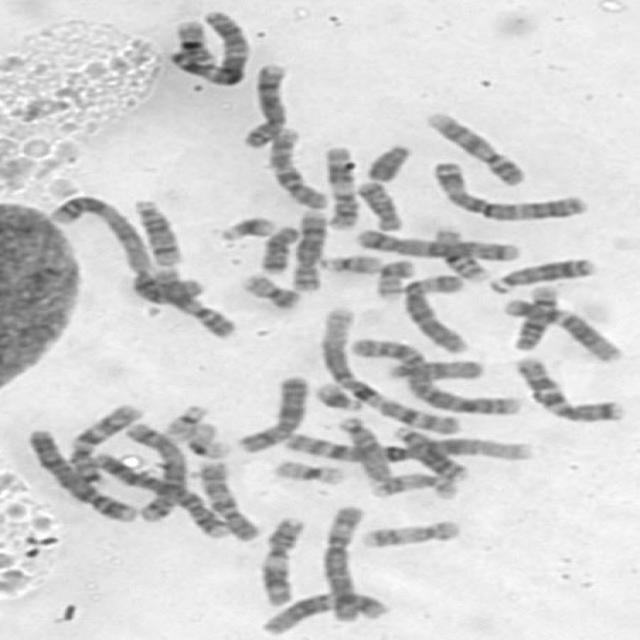A1: (314, 310, 466, 437), (280, 430, 537, 486)
A2: (44, 191, 205, 306), (347, 337, 521, 418)
A3: (424, 162, 588, 222), (172, 11, 250, 86)
B4: (91, 450, 235, 543), (21, 425, 133, 525)
B5: (122, 421, 190, 526), (350, 225, 524, 262)
C10: (263, 124, 330, 215), (191, 458, 262, 542)
C11: (252, 512, 307, 610), (316, 148, 360, 230)
C12: (500, 299, 626, 363), (258, 588, 395, 638)
C6: (321, 504, 378, 625), (395, 274, 472, 355)
C7: (505, 354, 633, 428), (61, 402, 144, 478)
C8: (239, 62, 292, 151), (288, 208, 328, 296)
C9: (419, 114, 527, 183), (144, 266, 238, 342)
D13: (388, 423, 470, 483), (483, 255, 595, 293)
D14: (127, 197, 187, 265), (510, 283, 560, 355)
D15: (334, 414, 394, 486), (377, 355, 484, 389)
E16: (429, 229, 494, 285), (171, 18, 217, 70)
E17: (358, 516, 464, 552), (367, 473, 456, 504)
E18: (354, 178, 405, 232), (255, 223, 299, 275)
F19: (269, 458, 347, 487), (178, 423, 231, 462)
F20: (238, 272, 301, 310), (368, 259, 416, 303)
G21: (310, 378, 364, 416), (216, 214, 280, 242)
G22: (159, 403, 215, 443), (317, 252, 385, 276)
X: (240, 376, 308, 454)
Y: (360, 142, 416, 184)
